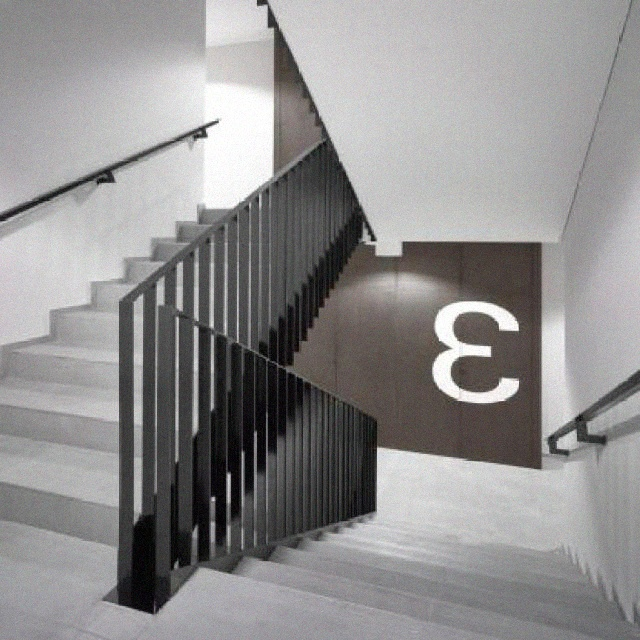stair: (4, 48, 338, 563), (165, 497, 640, 640)
